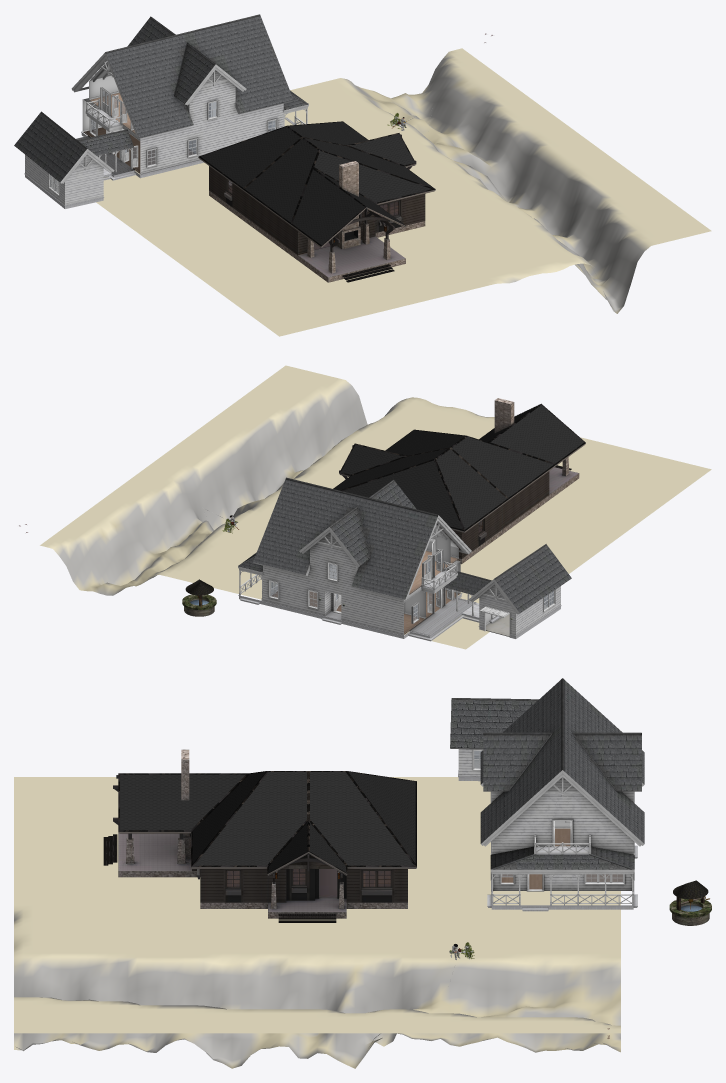
3 views of the same model, one above another, from view 1: azimuth 30°, elevation 25°; view 2: azimuth 150°, elevation 25°; view 3: azimuth 270°, elevation 25° (orthographic). The views are drawn at different scales.
Parts seen in each view (by area): view 1: Terrain 6,1, prim0-mesh, ROOST Dill Hurst House#114, A&M_ house ewras, ROOST Dill Hurst House#162, ROOST - Dill Hurst House (Garage)#25, ROOST - Dill Hurst House (Garage)#15, ROOST Dill Hurst House#136, ROOST - Dill Hurst House (Garage)#2, ROOST Dill Hurst House#125, ROOST Dill Hurst House#161; view 2: Terrain 6,1, prim0-mesh, ROOST Dill Hurst House#122, ROOST Dill Hurst House#7, A&M_ house ewras, ROOST - Dill Hurst House (Garage)#25, ROOST Dill Hurst House#161, ROOST - Dill Hurst House (Garage)#15, Brunnen alt, ROOST Dill Hurst House#88, ROOST Dill Hurst House#125, ROOST Dill Hurst House#106 (+2 smaller); view 3: Terrain 6,1, prim0-mesh (×2), A&M_ house ewras, ROOST Dill Hurst House#151, ROOST Dill Hurst House#114, ROOST Dill Hurst House#122, ROOST Dill Hurst House#16, ROOST - Dill Hurst House (Garage)#25, ROOST Dill Hurst House#136, ROOST Dill Hurst House#161, Brunnen alt, ROOST Dill Hurst House#125 (+1 smaller).
Part boxes in pixels (box(x1,y1,x2,y2)): Terrain 6,1: box(96, 48, 711, 336); prim0-mesh: box(198, 121, 435, 282); ROOST Dill Hurst House#114: box(106, 16, 293, 137); A&M_ house ewras: box(198, 134, 435, 282); ROOST Dill Hurst House#162: box(140, 70, 283, 174); ROOST - Dill Hurst House (Garage)#25: box(14, 113, 85, 182); ROOST - Dill Hurst House (Garage)#15: box(25, 154, 103, 205); ROOST Dill Hurst House#136: box(174, 45, 246, 105); ROOST - Dill Hurst House (Garage)#2: box(79, 131, 133, 155); ROOST Dill Hurst House#125: box(71, 52, 293, 138); ROOST Dill Hurst House#161: box(127, 18, 173, 46); Terrain 6,1: box(40, 365, 711, 649); prim0-mesh: box(333, 403, 585, 531); ROOST Dill Hurst House#122: box(253, 479, 437, 599); ROOST Dill Hurst House#7: box(263, 532, 403, 635); A&M_ house ewras: box(339, 398, 585, 564); ROOST - Dill Hurst House (Garage)#25: box(495, 545, 571, 612); ROOST Dill Hurst House#161: box(299, 508, 370, 567); ROOST - Dill Hurst House (Garage)#15: box(479, 585, 560, 635); Brunnen alt: box(182, 579, 216, 616); ROOST Dill Hurst House#88: box(409, 597, 475, 636); ROOST Dill Hurst House#125: box(253, 515, 471, 600); ROOST Dill Hurst House#106: box(238, 595, 403, 638); Terrain 6,1: box(14, 777, 620, 1068); prim0-mesh (×2): box(103, 771, 416, 922); A&M_ house ewras: box(113, 749, 416, 918); ROOST Dill Hurst House#151: box(491, 778, 633, 890); ROOST Dill Hurst House#114: box(480, 679, 561, 843); ROOST Dill Hurst House#122: box(564, 679, 644, 843); ROOST Dill Hurst House#16: box(490, 846, 634, 874); ROOST - Dill Hurst House (Garage)#25: box(450, 699, 536, 748); ROOST Dill Hurst House#136: box(483, 734, 550, 791); ROOST Dill Hurst House#161: box(575, 734, 641, 791); Brunnen alt: box(669, 880, 711, 925); ROOST Dill Hurst House#125: box(481, 770, 644, 846).
Size of the model in its own units: 74.73 by 23.89 by 73.61.
217 materials, 208 textured.
